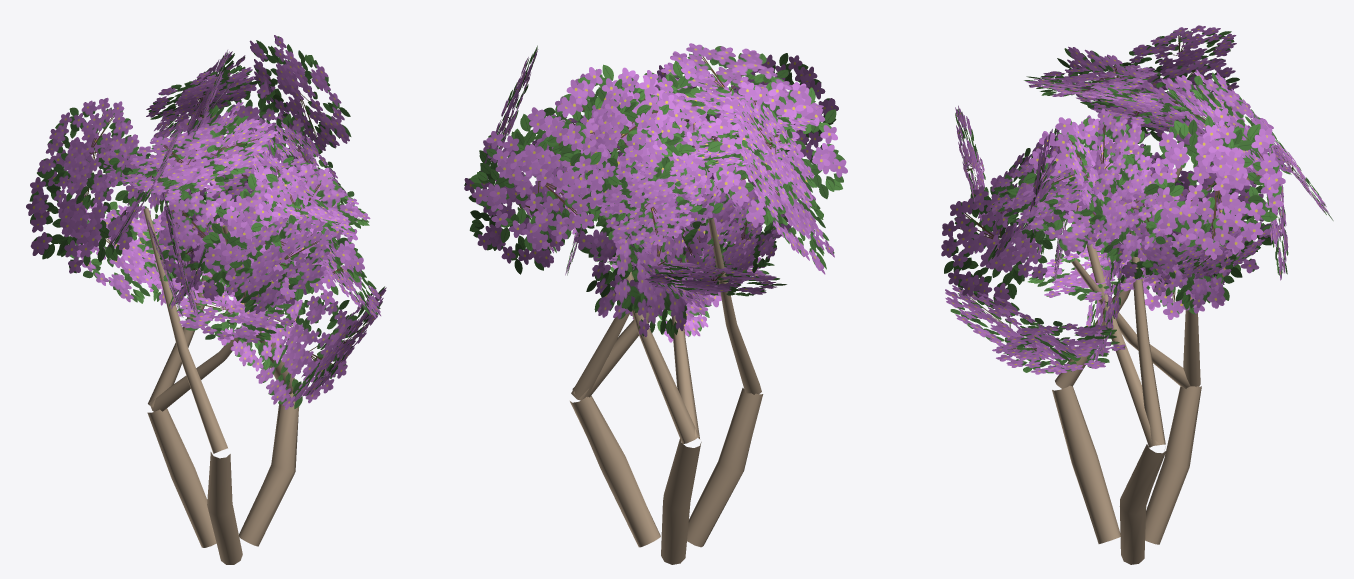
File: pleroma-mutabile.glb
The picture shows the model from 3 angles, left to right: view 1: azimuth 30°, elevation 25°; view 2: azimuth 150°, elevation 25°; view 3: azimuth 270°, elevation 25°; orthographic projection. The views are drawn at different scales.
Visible parts, largest first — view 1: folhas, tronco; view 2: folhas, tronco; view 3: folhas, tronco.
Part boxes in pixels (box(x1,y1,x2,y2)): folhas: box(26, 35, 386, 409); tronco: box(143, 208, 299, 564); folhas: box(464, 43, 847, 342); tronco: box(570, 155, 763, 564); folhas: box(941, 25, 1333, 374); tronco: box(1052, 167, 1201, 564).
Bounding box in the file's own units: 2.83 × 4 × 3.
2 materials, 1 textured.
